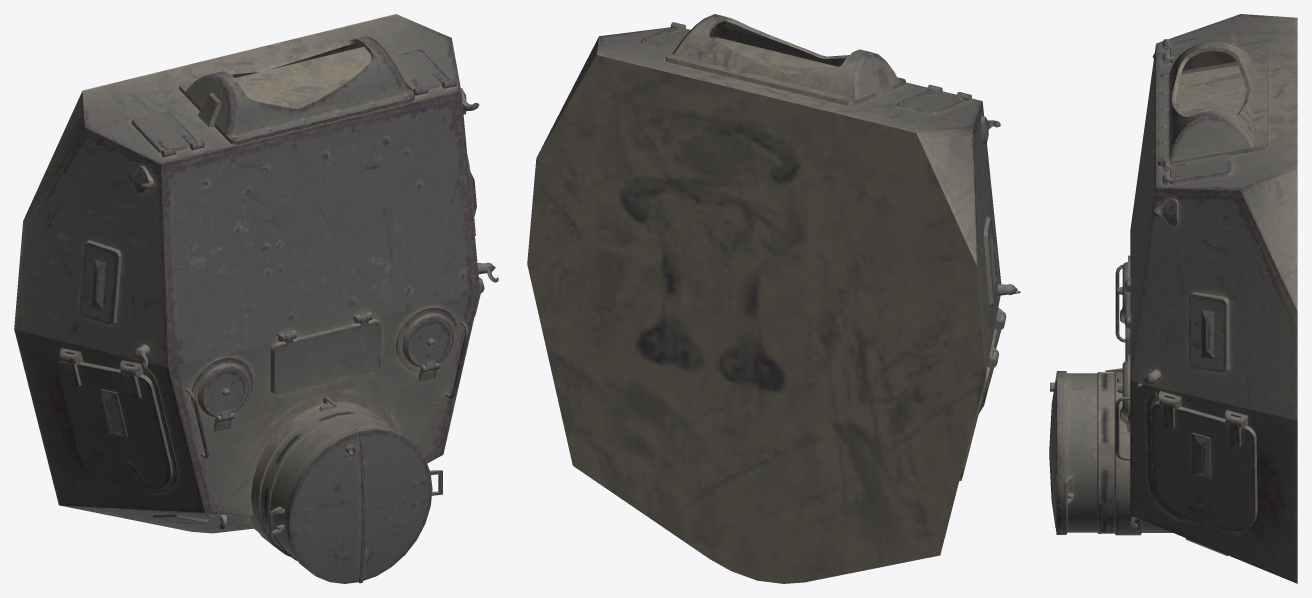
Rendered from Turret_01.glb.
3 renders of one model, left to right at view 1: azimuth 30°, elevation 25°; view 2: azimuth 150°, elevation 25°; view 3: azimuth 270°, elevation 25°, orthographic. The views are drawn at different scales.
Parts seen in each view (by area): view 1: set_0_group_0; view 2: set_0_group_0; view 3: set_0_group_0.
Part boxes in pixels (left/top/right/bottom): set_0_group_0: left=14, top=14, right=498, bottom=583; set_0_group_0: left=527, top=14, right=1020, bottom=583; set_0_group_0: left=1049, top=14, right=1297, bottom=583.
Bounding box in the file's own units: 1.98 × 2.1 × 0.9585.
Materials: 1 (1 with a texture image).
